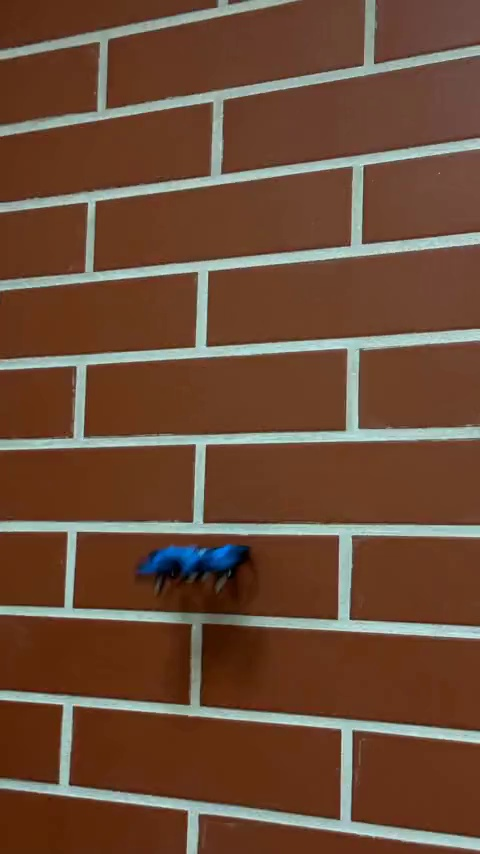drone: (140, 544, 255, 587)
